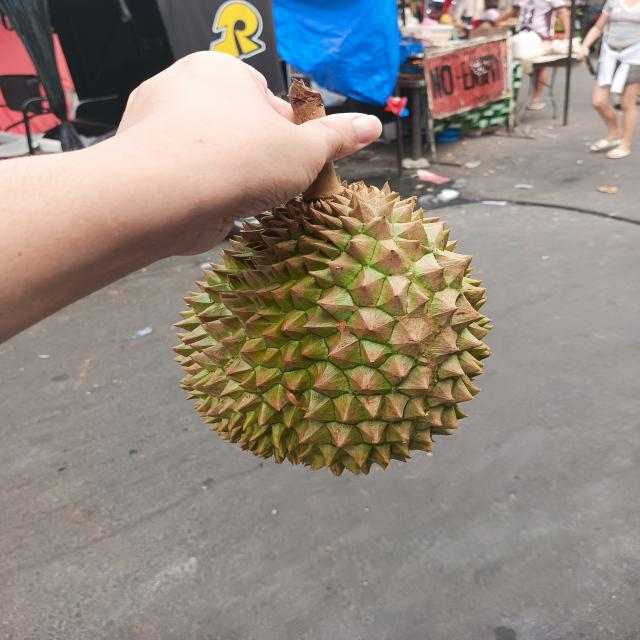mature: (174, 186, 487, 456)
